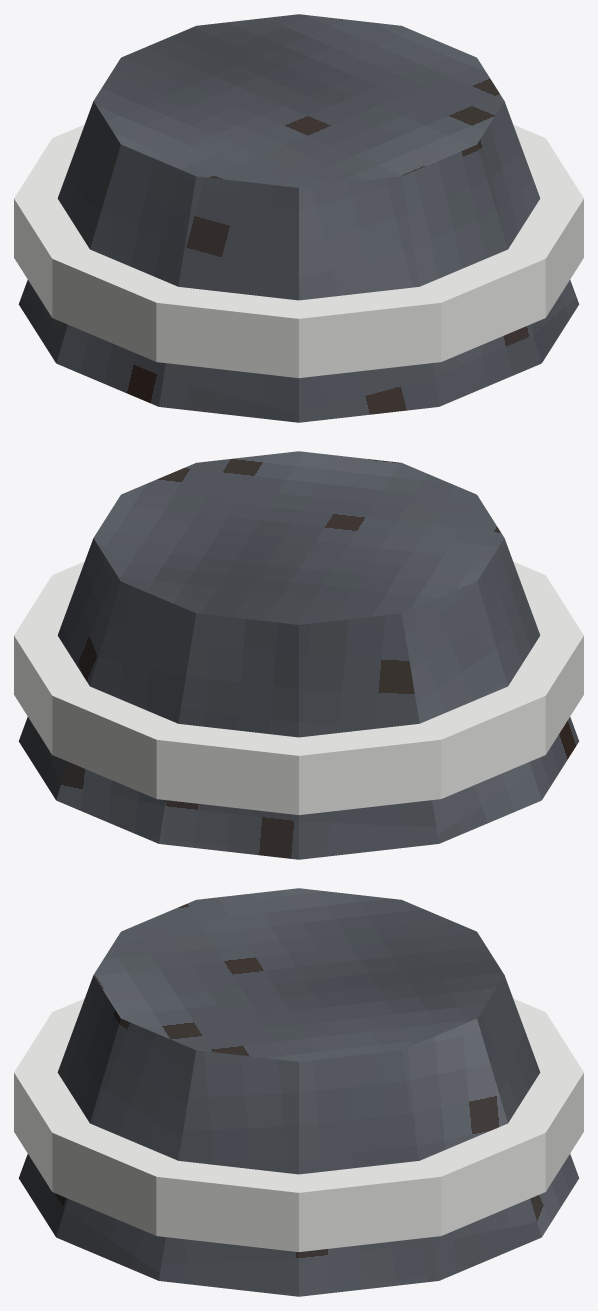
File: turret.glb
3 views of the same model, one above another, from view 1: azimuth 30°, elevation 25°; view 2: azimuth 150°, elevation 25°; view 3: azimuth 270°, elevation 25° (orthographic).
Parts seen in each view (by area): view 1: turret, stripe; view 2: turret, stripe; view 3: turret, stripe.
Part boxes in pixels (x1,y1,x2,y2): turret: (18, 14, 579, 422); stripe: (14, 124, 583, 377); turret: (18, 451, 579, 859); stripe: (14, 561, 583, 814); turret: (18, 888, 579, 1296); stripe: (14, 998, 583, 1251).
Bounding box in the file's own units: 0.61 × 0.24 × 0.61.
Materials: 2 (1 with a texture image).
